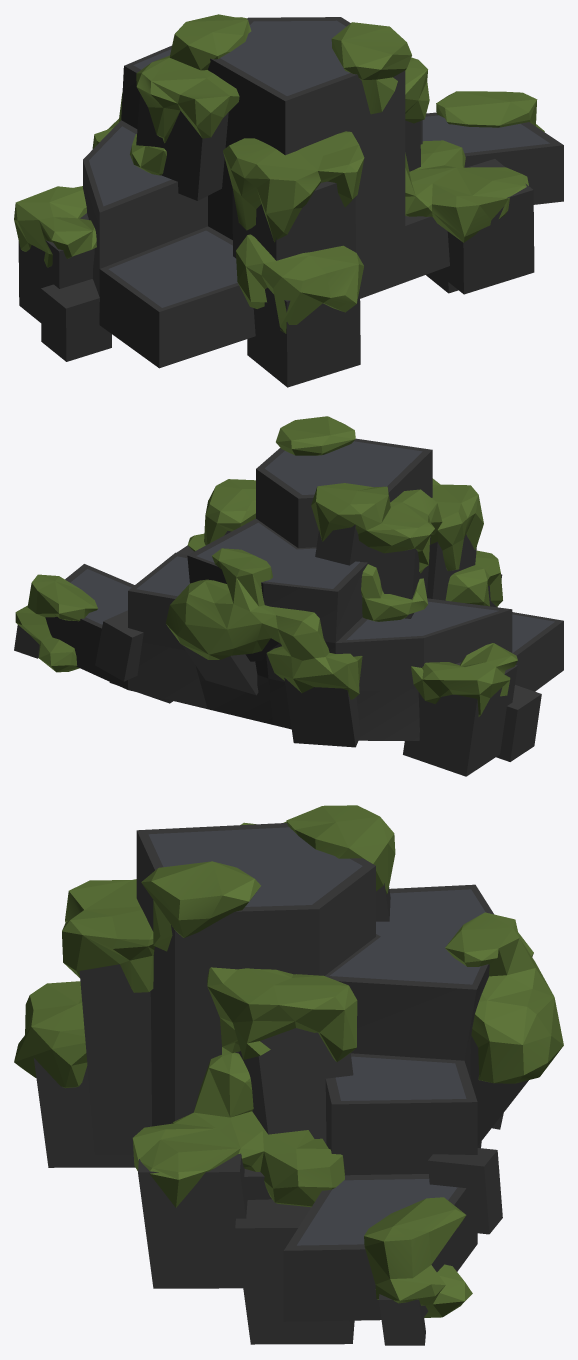
Rendered from GreyStoneStepsLargeOvergrownStoneSteps1.fbx.
3 views of the same model, one above another, from view 1: azimuth 30°, elevation 25°; view 2: azimuth 150°, elevation 25°; view 3: azimuth 270°, elevation 25° (orthographic). The views are drawn at different scales.
Parts seen in each view (by area): view 1: Stone, Grass; view 2: Stone, Grass; view 3: Stone, Grass.
Part boxes in pixels (left/top/right/bottom): Stone: left=18, top=17, right=563, bottom=387; Grass: left=14, top=14, right=544, bottom=333; Stone: left=14, top=438, right=563, bottom=776; Grass: left=15, top=416, right=517, bottom=716; Stone: left=34, top=823, right=528, bottom=1345; Grass: left=14, top=805, right=563, bottom=1317.
Bounding box in the file's own units: 1992 × 1047 × 1404.
